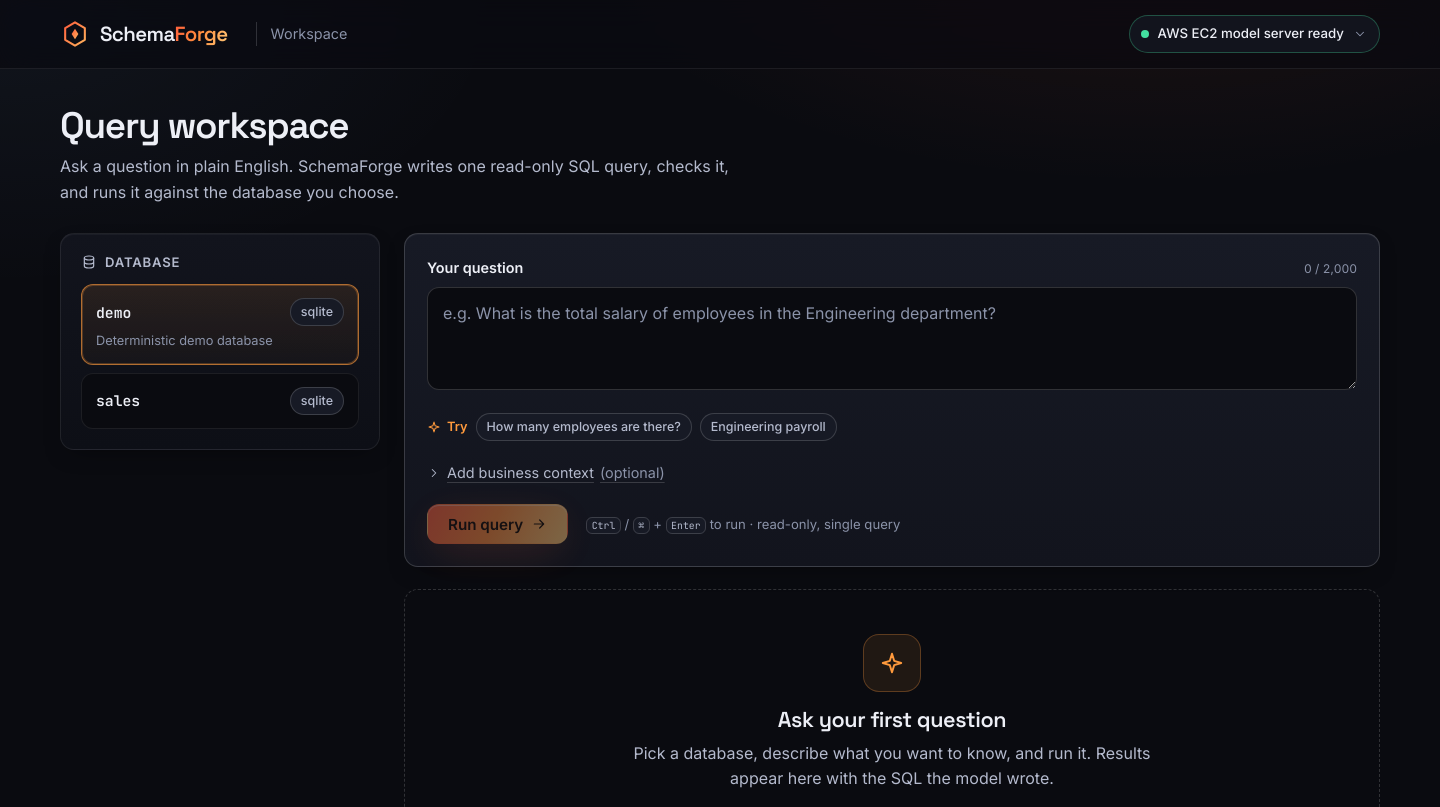
Test case: Reliability states are distinct and honest › renders invalid for the database as its own state
The width and height of the screenshot is (1440, 807).
Check: the radio button labelled "demo sqlite Deterministic demo database" is shown, box [81,284,359,365]
Type "How many employees are there?" into the text box labelled "Your question". click: {"x": 892, "y": 339}
box: [427,287,1357,390]
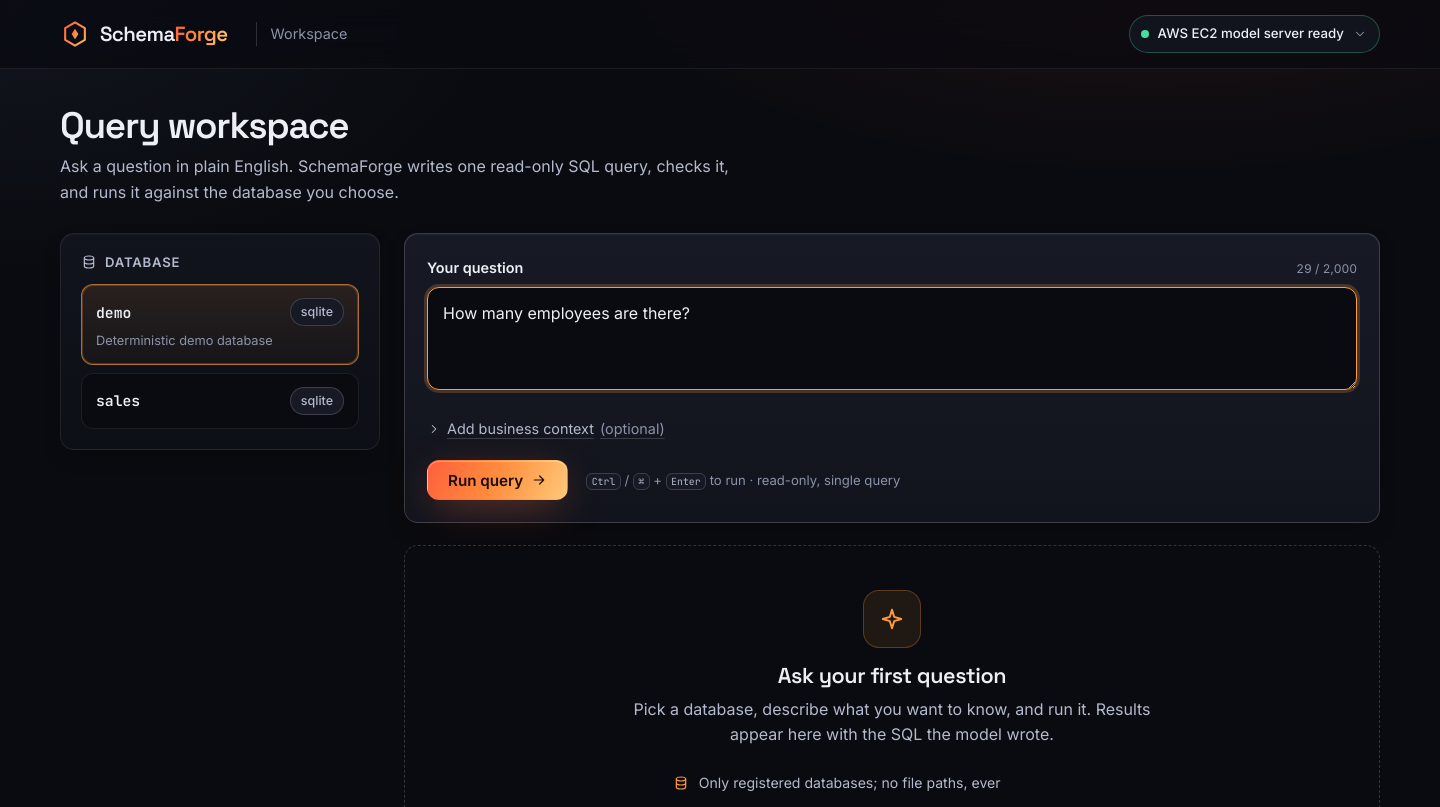
Click the button "Run query". click: {"x": 498, "y": 480}
box: [427,460,568,500]
(page scrolled)
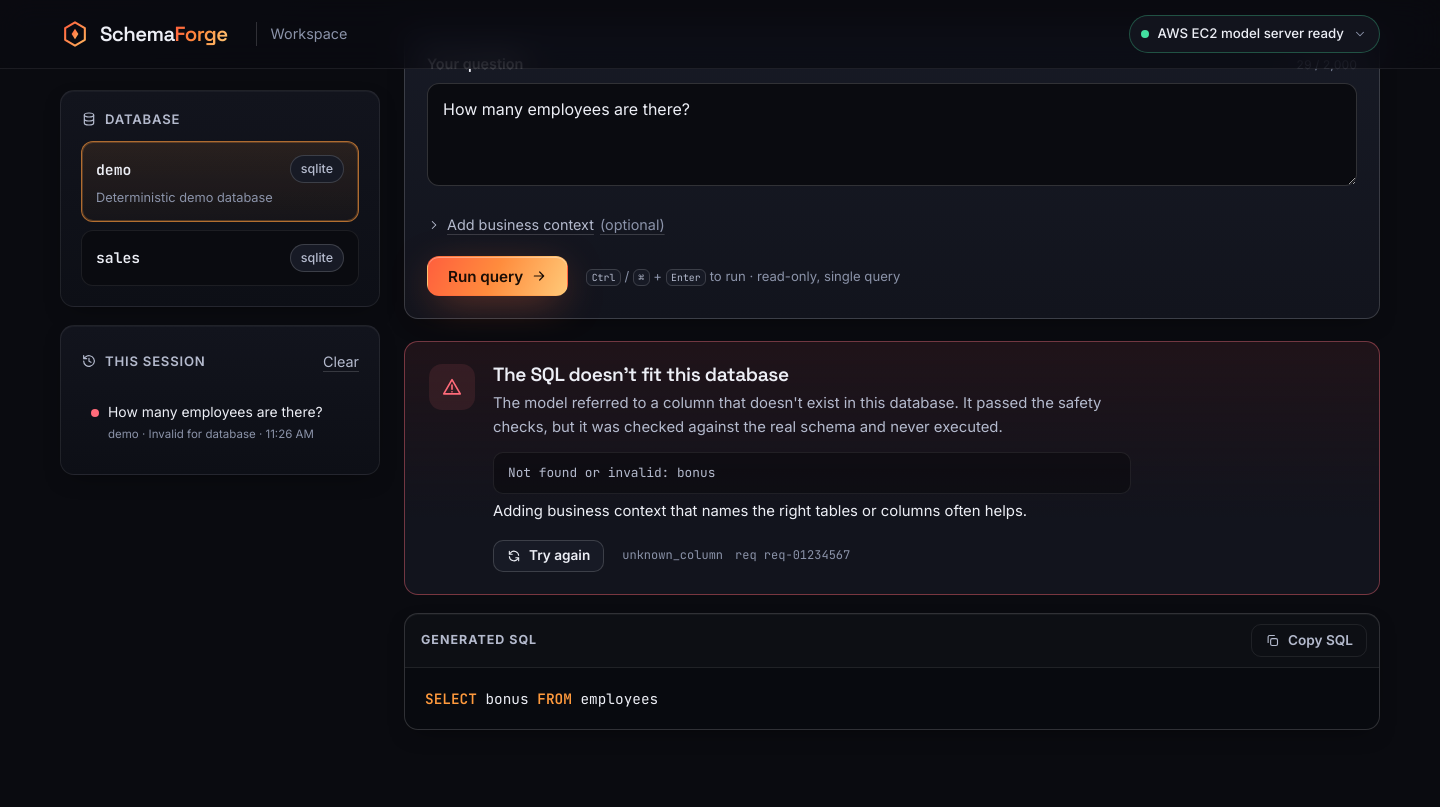
Check: the message shows "doesn't fit this database", box [493,362,789,388]
Check: the text "Not found or invalid: bonus" is shown, box [508,464,715,481]
